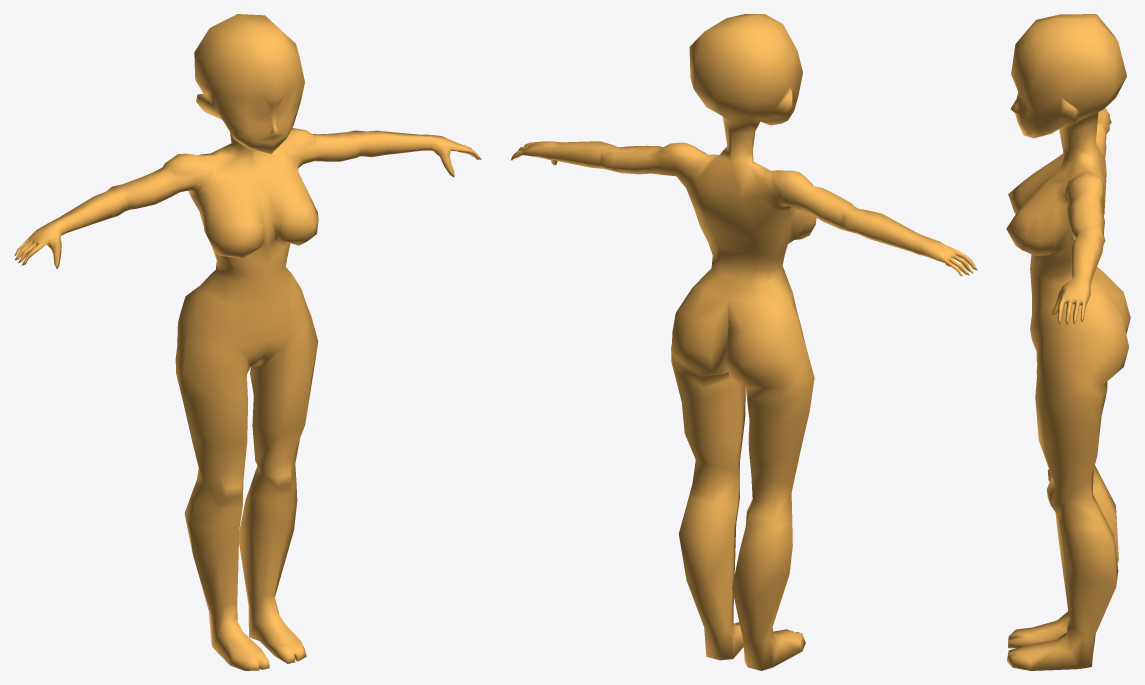
File: Female-Character.glb
3 views of the same model, side by side, from view 1: azimuth 30°, elevation 25°; view 2: azimuth 150°, elevation 25°; view 3: azimuth 270°, elevation 25° (orthographic). The views are drawn at different scales.
Visible parts, largest first — view 1: ELFEBEN 2024 FEMALE; view 2: ELFEBEN 2024 FEMALE; view 3: ELFEBEN 2024 FEMALE.
Part boxes in pixels (bbox=[...]): ELFEBEN 2024 FEMALE: bbox=[14, 14, 481, 670]; ELFEBEN 2024 FEMALE: bbox=[510, 14, 977, 670]; ELFEBEN 2024 FEMALE: bbox=[1006, 14, 1130, 670].
Bounding box in the file's own units: 1.27 × 1.65 × 0.2935.
